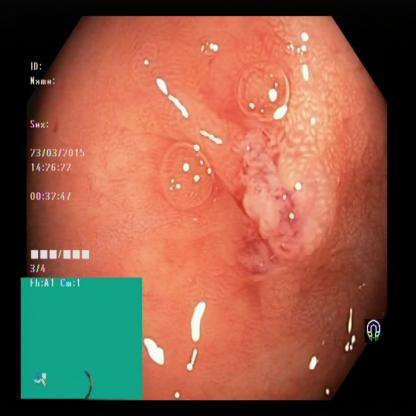Labels: (20, 275, 145, 400), (27, 58, 90, 276), (364, 312, 388, 351)
Polyps: (242, 143, 335, 255)
